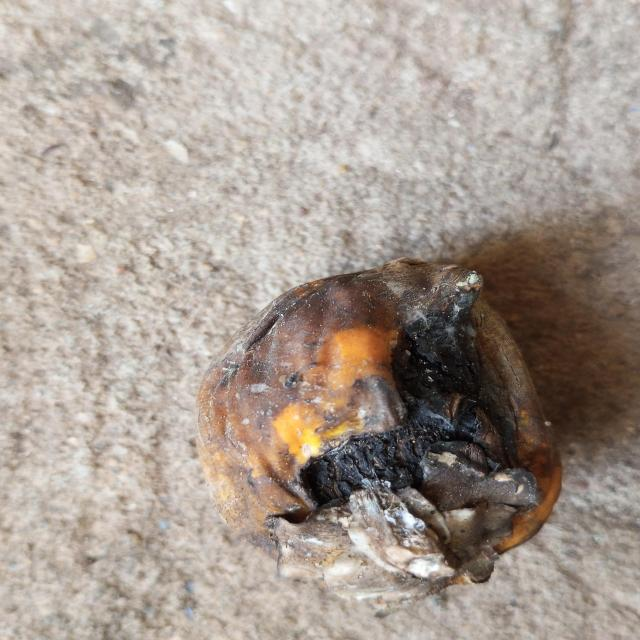damaged: (195, 259, 564, 586)
